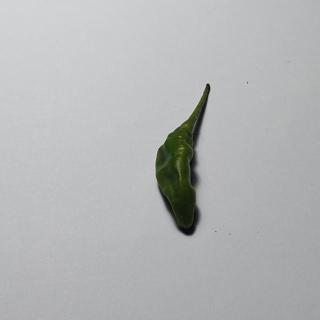Cabai Hijau: (151, 81, 228, 237)
